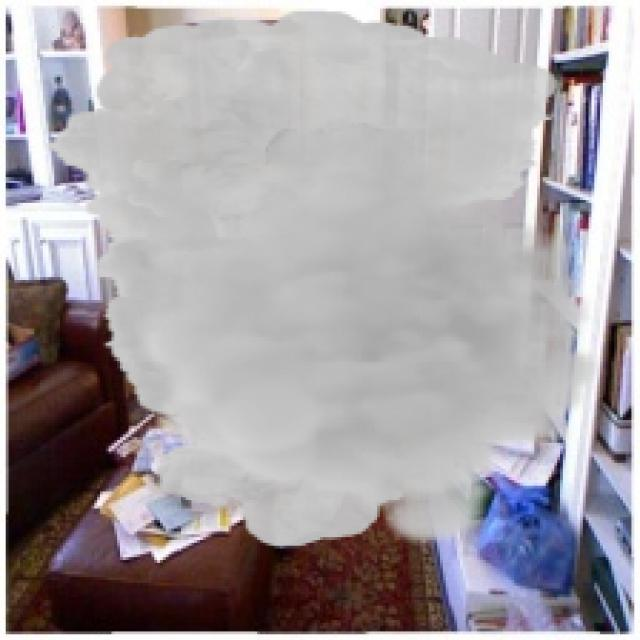smoke: (43, 9, 603, 548)
